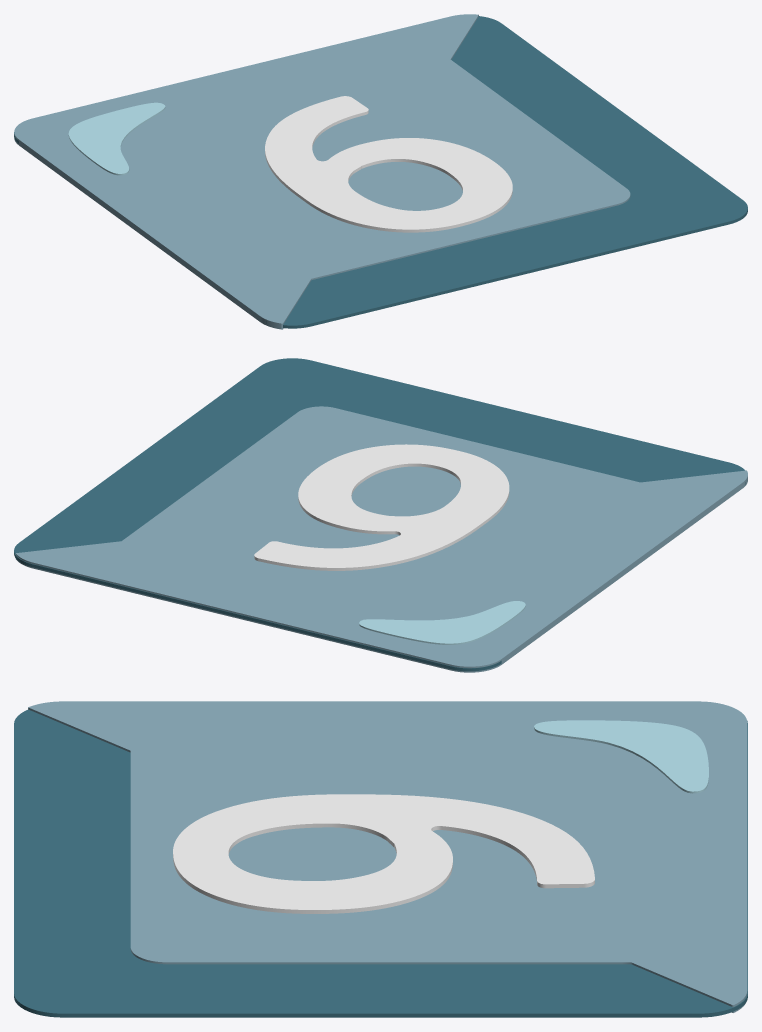
The model's file is emoji_u0036_20e3.glb.
3 views of the same model, one above another, from view 1: azimuth 30°, elevation 25°; view 2: azimuth 150°, elevation 25°; view 3: azimuth 270°, elevation 25° (orthographic). The views are drawn at different scales.
Visible parts, largest first — view 1: emoji_u0036_20e3; view 2: emoji_u0036_20e3; view 3: emoji_u0036_20e3.
Boxes of the visible parts, x1,y1,x2,y2 form: emoji_u0036_20e3: [14, 14, 747, 329]; emoji_u0036_20e3: [14, 358, 747, 672]; emoji_u0036_20e3: [14, 701, 747, 1017].
Size of the model in its own units: 0.0339 by 0.0008 by 0.0339.
